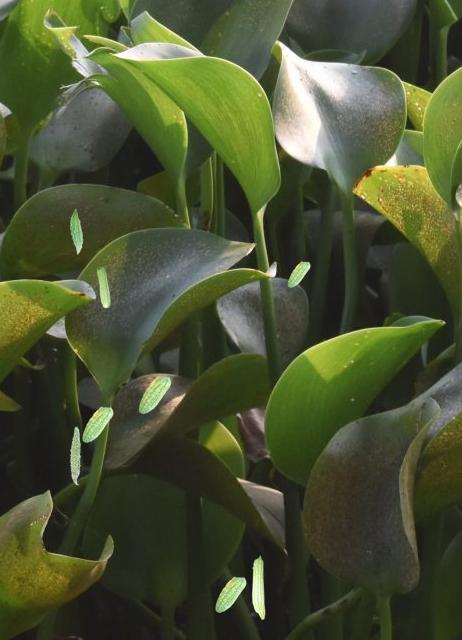ampalaya: (138, 376, 171, 414), (82, 406, 113, 443), (215, 576, 246, 613), (251, 555, 265, 620), (69, 426, 81, 485), (69, 208, 83, 254), (96, 266, 111, 308), (287, 261, 310, 287)
